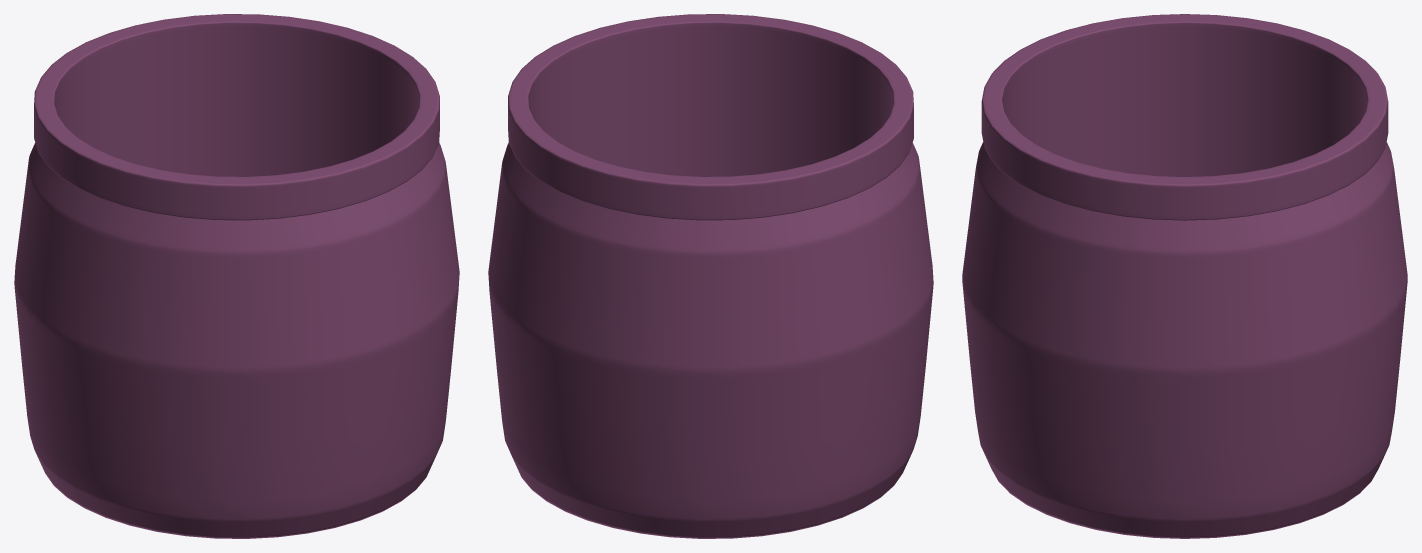
The model's file is Bucket2.fbx.
The picture shows the model from 3 angles, left to right: view 1: azimuth 30°, elevation 25°; view 2: azimuth 150°, elevation 25°; view 3: azimuth 270°, elevation 25°; orthographic projection.
Parts seen in each view (by area): view 1: Bucket2_High; view 2: Bucket2_High; view 3: Bucket2_High.
Boxes of the visible parts, bbox=[...] form: Bucket2_High: bbox=[14, 14, 459, 538]; Bucket2_High: bbox=[488, 14, 933, 538]; Bucket2_High: bbox=[962, 14, 1407, 538].
Bounding box in the file's own units: 0.7316 × 0.6491 × 0.7316.
